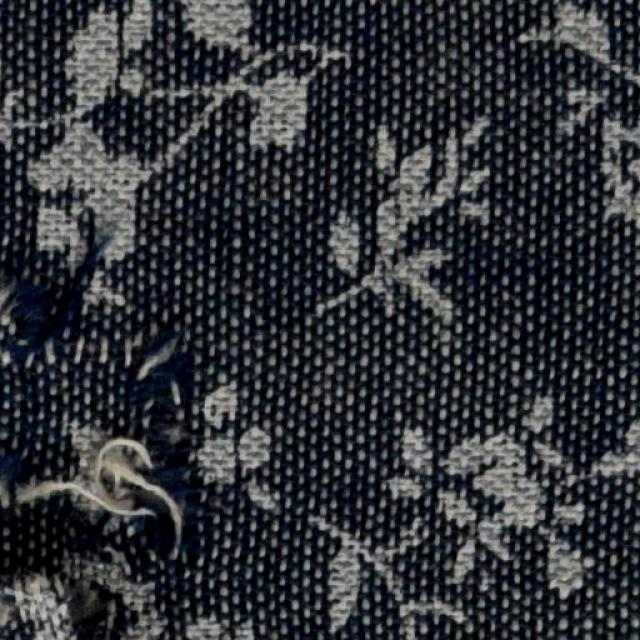Hole: (57, 588, 119, 640)
Snag: (0, 254, 206, 640)
